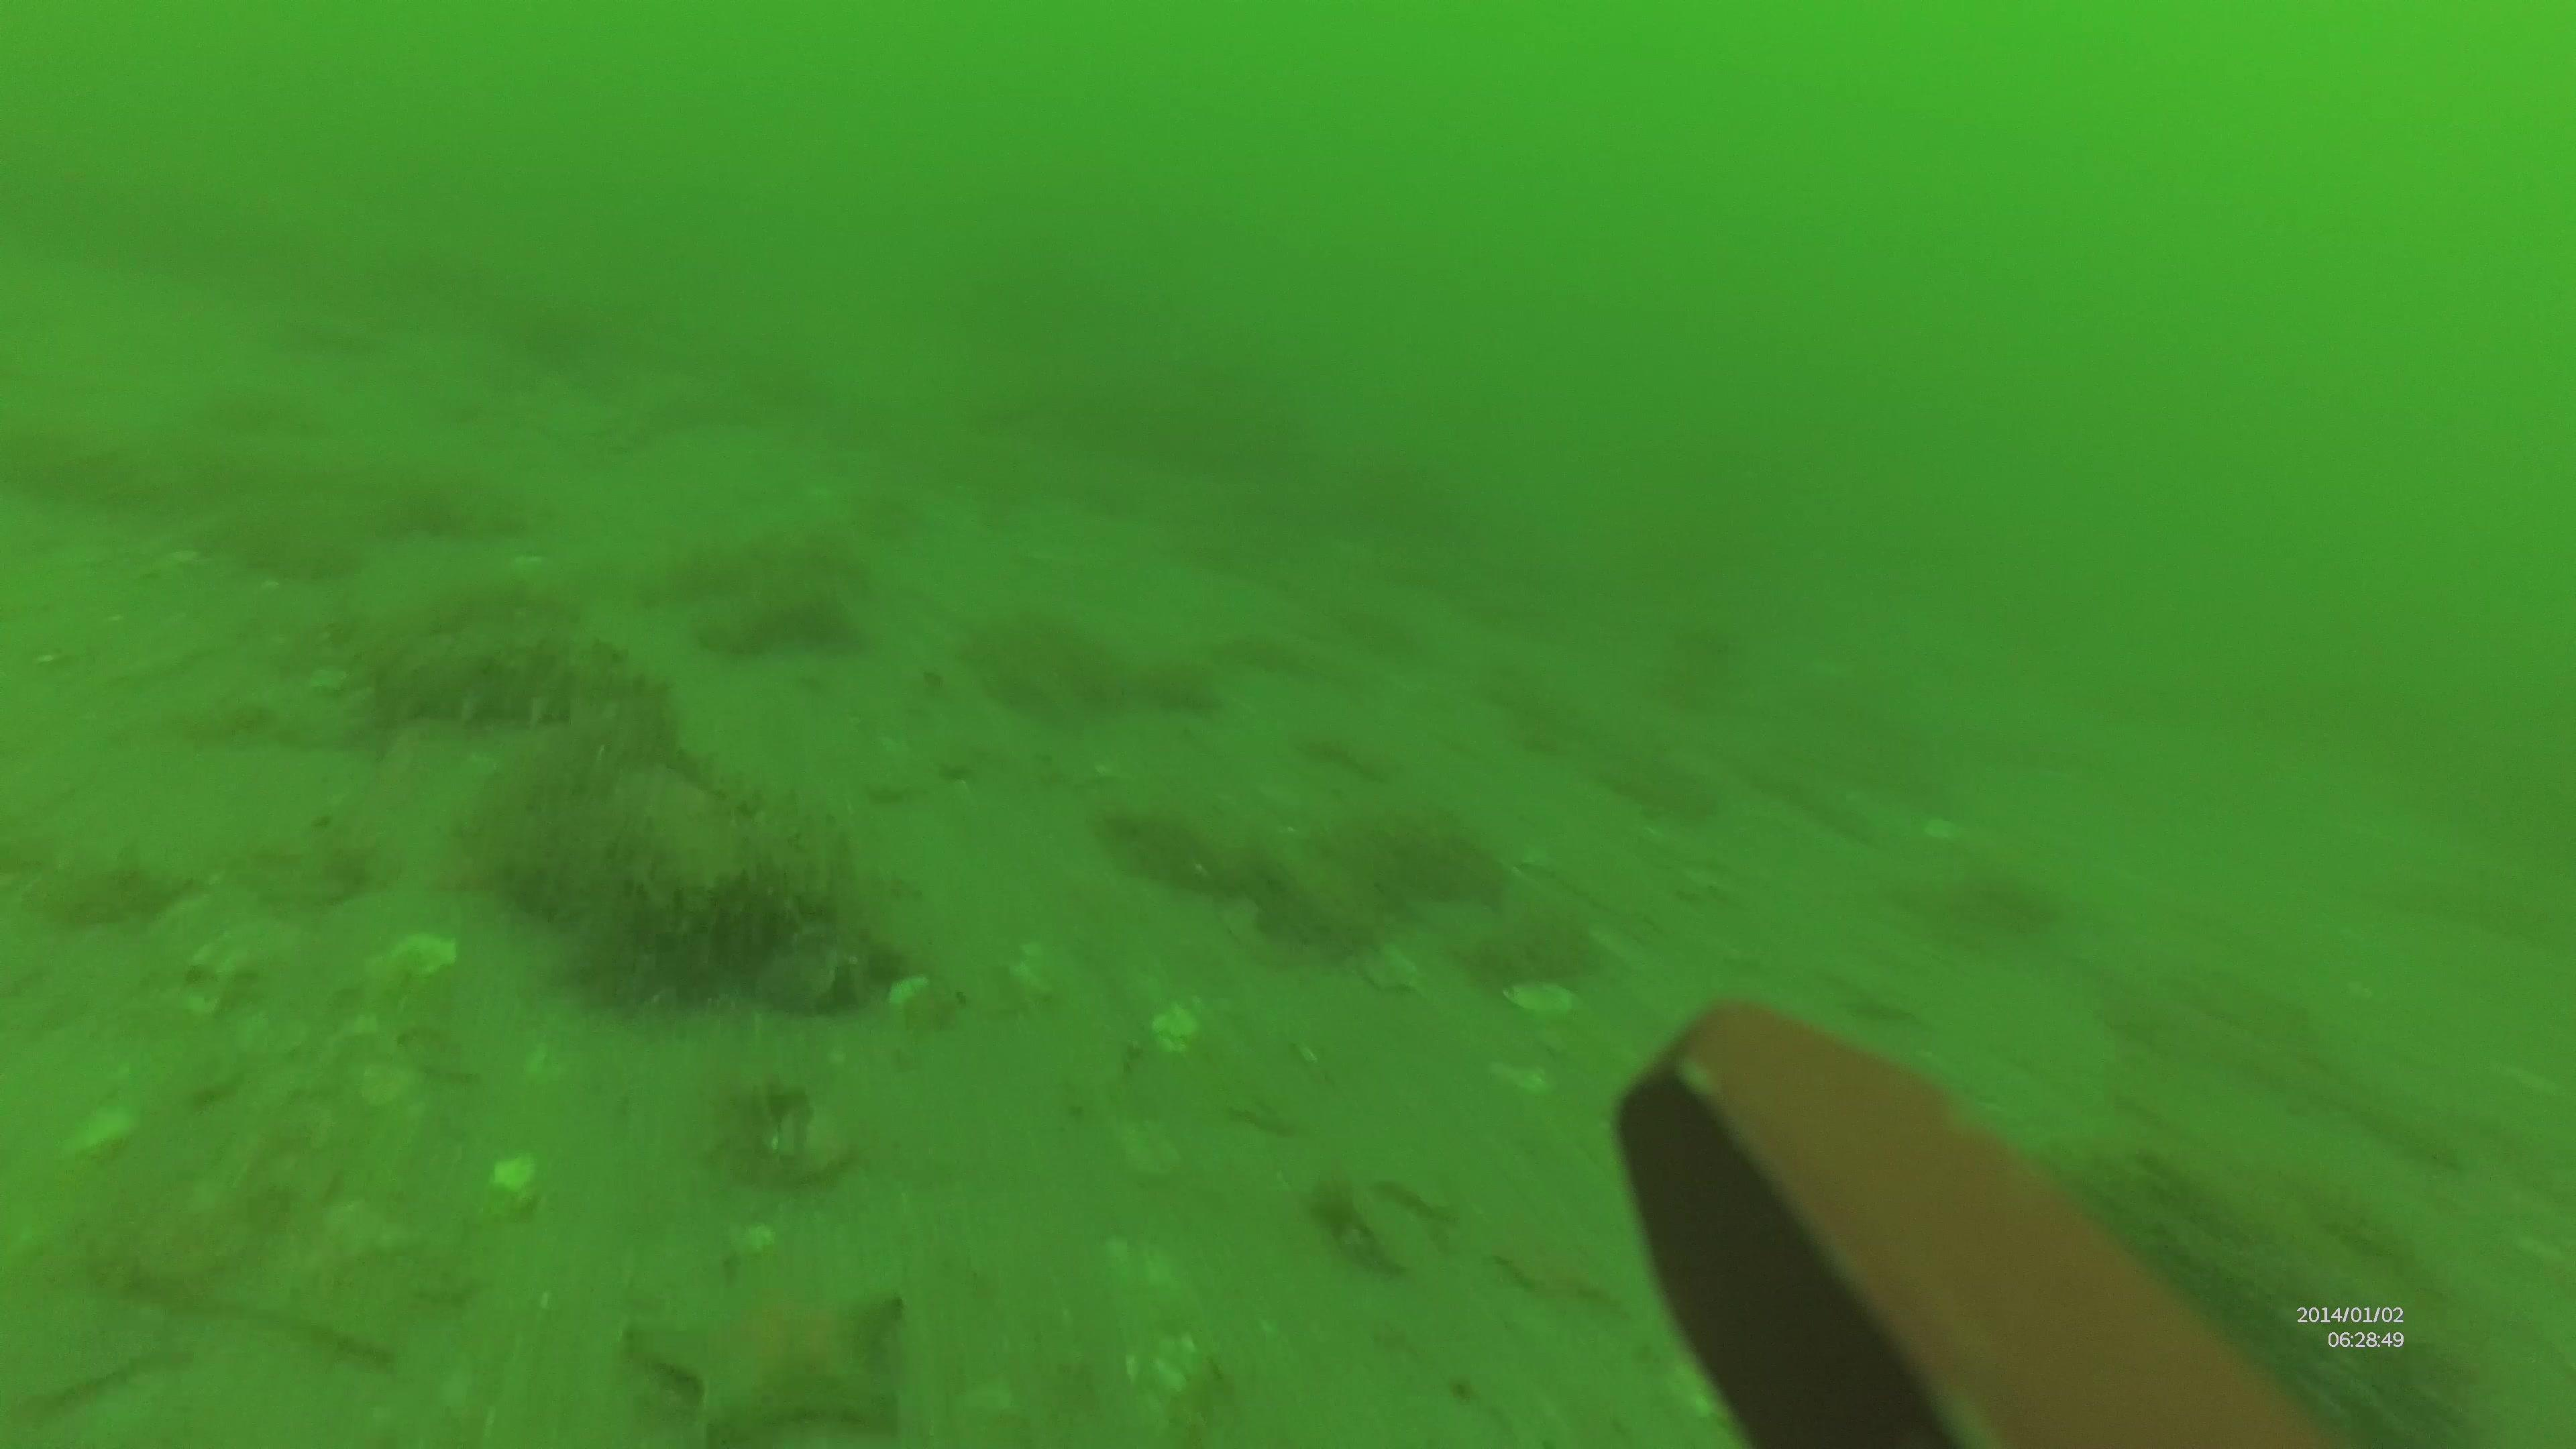starfish: (610, 1253, 916, 1445)
